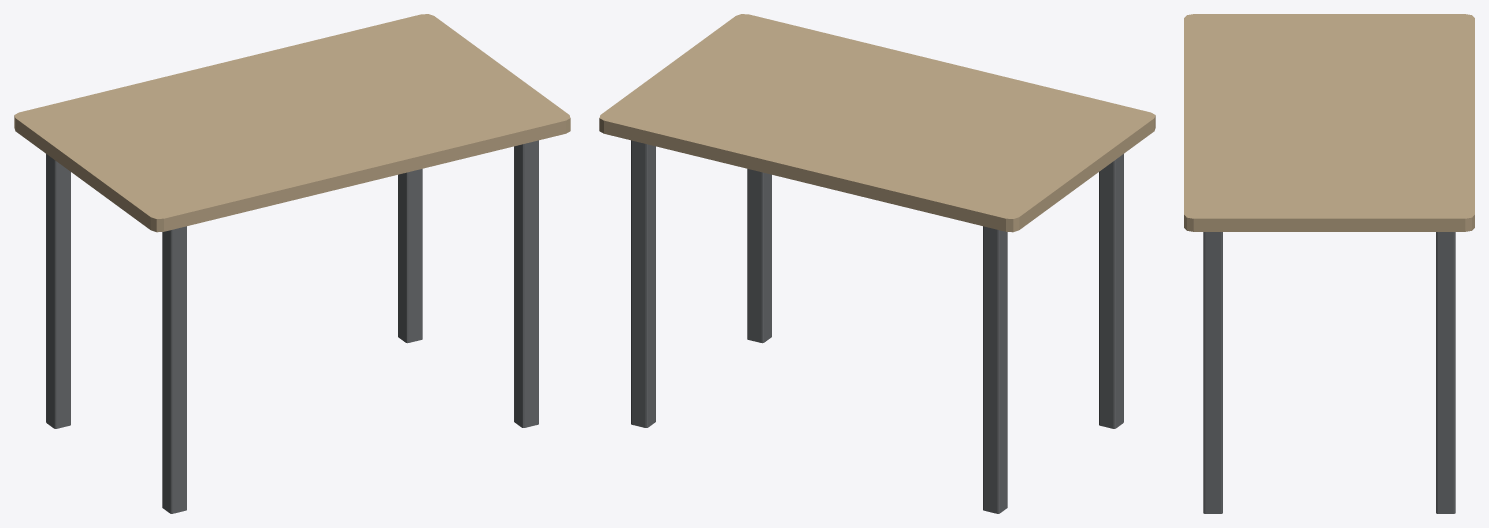
Rendered from folding_table.glb.
3 renders of one model, left to right at view 1: azimuth 30°, elevation 25°; view 2: azimuth 150°, elevation 25°; view 3: azimuth 270°, elevation 25°, orthographic.
Visible parts, largest first — view 1: folding_table; view 2: folding_table; view 3: folding_table.
Boxes of the visible parts, x1=… form: folding_table: x1=14, y1=14, x2=570, y2=513; folding_table: x1=599, y1=14, x2=1155, y2=513; folding_table: x1=1184, y1=14, x2=1474, y2=513.
Bounding box in the file's own units: 1 × 0.7 × 0.6.
